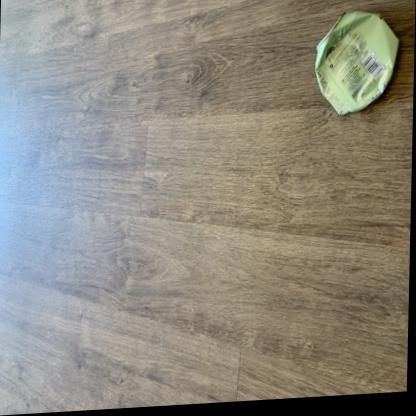trash: (315, 11, 398, 114)
